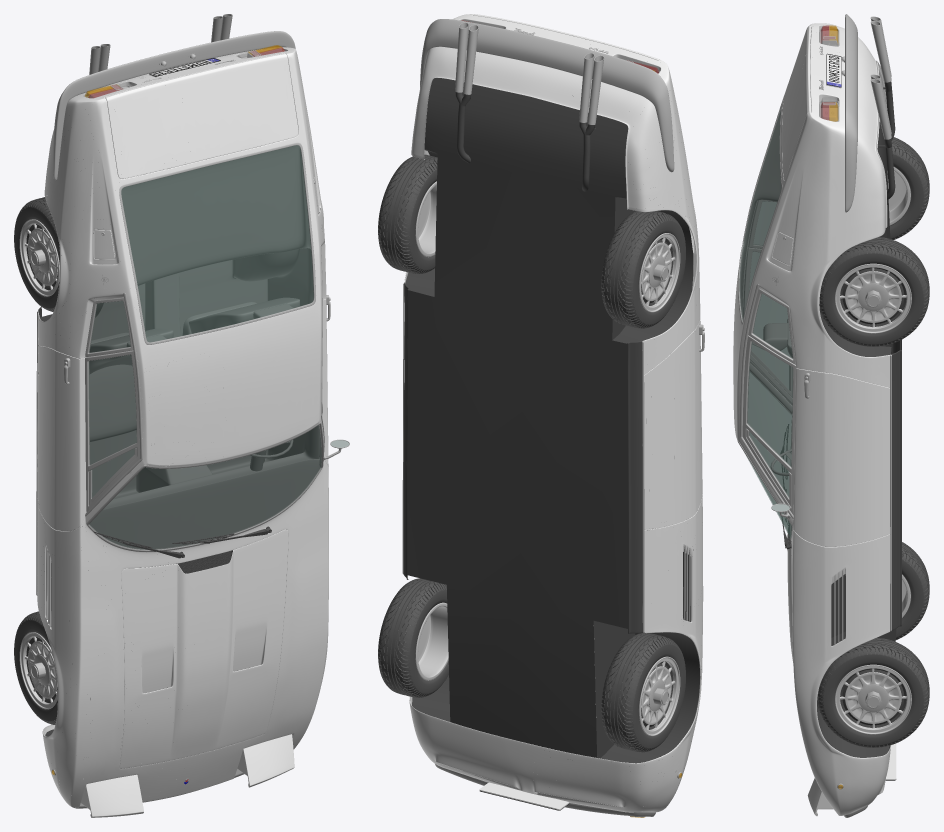
3 views of the same model, side by side, from view 1: azimuth 30°, elevation 25°; view 2: azimuth 150°, elevation 25°; view 3: azimuth 270°, elevation 25° (orthographic). The views are drawn at different scales.
Parts seen in each view (by area): view 1: Object_18, Object_58, Object_37, Object_19, Object_59, Object_38, Object_28, Object_21, Object_22, Object_36, Object_32, Object_23 (+7 smaller); view 2: Object_17, Object_18, Object_19, Object_28, Object_23, Object_56, Object_50, Object_52, Object_54, Object_10, Object_49, Object_47 (+13 smaller); view 3: Object_18, Object_17, Object_59, Object_58, Object_52, Object_54, Object_32, Object_28, Object_23, Object_43, Object_44, Object_37 (+17 smaller).
Part boxes in pixels (box(x1,y1,x2,y2)): Object_18: box(37, 47, 328, 807); Object_58: box(89, 145, 321, 549); Object_37: box(55, 145, 321, 549); Object_19: box(37, 76, 227, 807); Object_59: box(88, 301, 136, 497); Object_38: box(89, 297, 299, 441); Object_28: box(53, 31, 324, 516); Object_21: box(85, 734, 294, 817); Object_22: box(86, 142, 341, 551); Object_36: box(136, 273, 293, 492); Object_32: box(85, 297, 322, 511); Object_23: box(30, 14, 349, 685); Object_17: box(403, 78, 700, 766); Object_18: box(404, 14, 703, 812); Object_19: box(533, 36, 702, 812); Object_28: box(420, 19, 674, 172); Object_23: box(402, 22, 668, 711); Object_56: box(601, 633, 685, 752); Object_50: box(601, 211, 685, 328); Object_52: box(378, 578, 448, 697); Object_54: box(378, 155, 437, 273); Object_10: box(424, 149, 640, 781); Object_49: box(602, 633, 670, 751); Object_47: box(378, 579, 443, 696); Object_18: box(733, 23, 890, 815); Object_17: box(783, 120, 906, 757); Object_59: box(747, 201, 793, 497); Object_58: box(739, 109, 791, 538); Object_52: box(817, 638, 929, 747); Object_54: box(819, 237, 929, 346); Object_32: box(742, 199, 795, 515); Object_28: box(740, 14, 857, 518); Object_23: box(771, 16, 891, 712); Object_43: box(835, 664, 911, 734); Object_44: box(835, 263, 911, 333); Object_37: box(739, 112, 792, 536).
Bounding box in the file's own units: 180 × 475 × 116.
